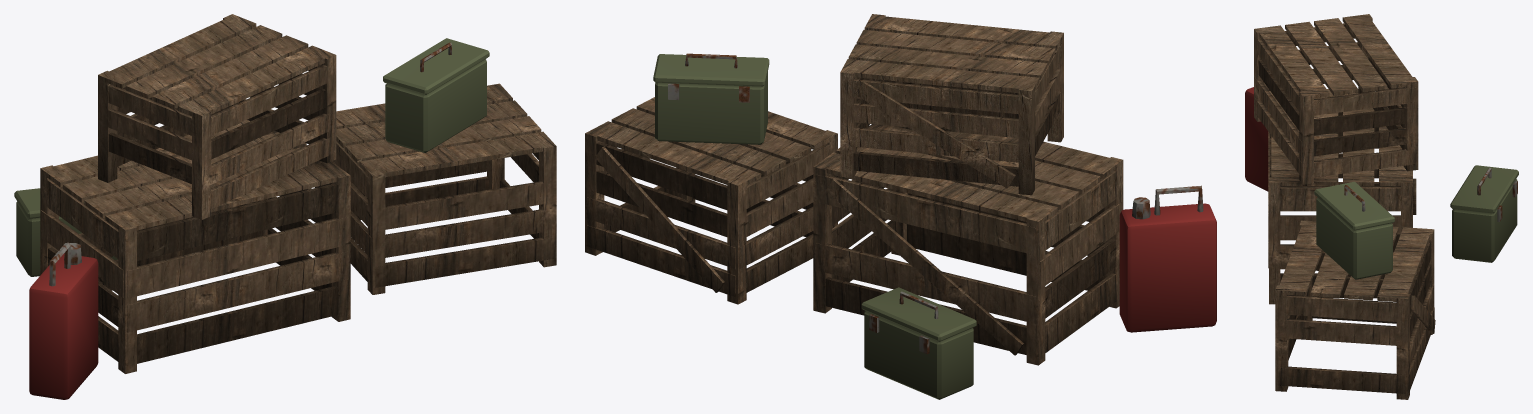
File: crate_stack.glb
The picture shows the model from 3 angles, left to right: view 1: azimuth 30°, elevation 25°; view 2: azimuth 150°, elevation 25°; view 3: azimuth 270°, elevation 25°; orthographic projection. The views are drawn at different scales.
Visible parts, largest first — view 1: crate_stack_wood_rough, crate_stack_paint_olive, crate_stack_paint_red, crate_stack_galvanized; view 2: crate_stack_wood_rough, crate_stack_paint_olive, crate_stack_paint_red, crate_stack_galvanized; view 3: crate_stack_wood_rough, crate_stack_paint_olive, crate_stack_paint_red, crate_stack_galvanized.
Part boxes in pixels (bbox=[...]): crate_stack_wood_rough: bbox=[40, 14, 556, 373]; crate_stack_paint_olive: bbox=[14, 38, 489, 276]; crate_stack_paint_red: bbox=[29, 253, 98, 399]; crate_stack_galvanized: bbox=[49, 42, 451, 286]; crate_stack_wood_rough: bbox=[585, 14, 1123, 365]; crate_stack_paint_olive: bbox=[653, 54, 976, 399]; crate_stack_paint_red: bbox=[1119, 203, 1216, 332]; crate_stack_galvanized: bbox=[668, 53, 1203, 354]; crate_stack_wood_rough: bbox=[1254, 14, 1435, 399]; crate_stack_paint_olive: bbox=[1314, 165, 1518, 279]; crate_stack_paint_red: bbox=[1245, 87, 1268, 191]; crate_stack_galvanized: bbox=[1344, 167, 1517, 221].
Size of the model in its own units: 2.32 by 1 by 1.18.
Materials: 4 (2 with a texture image).
